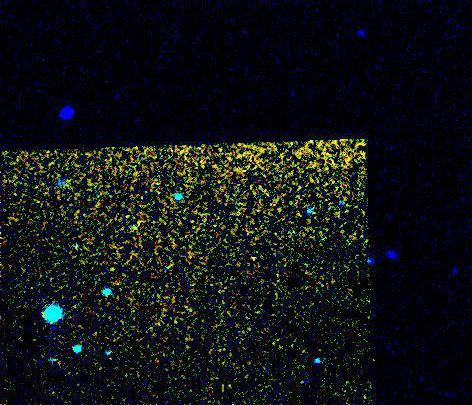star: (97, 256, 127, 286)
